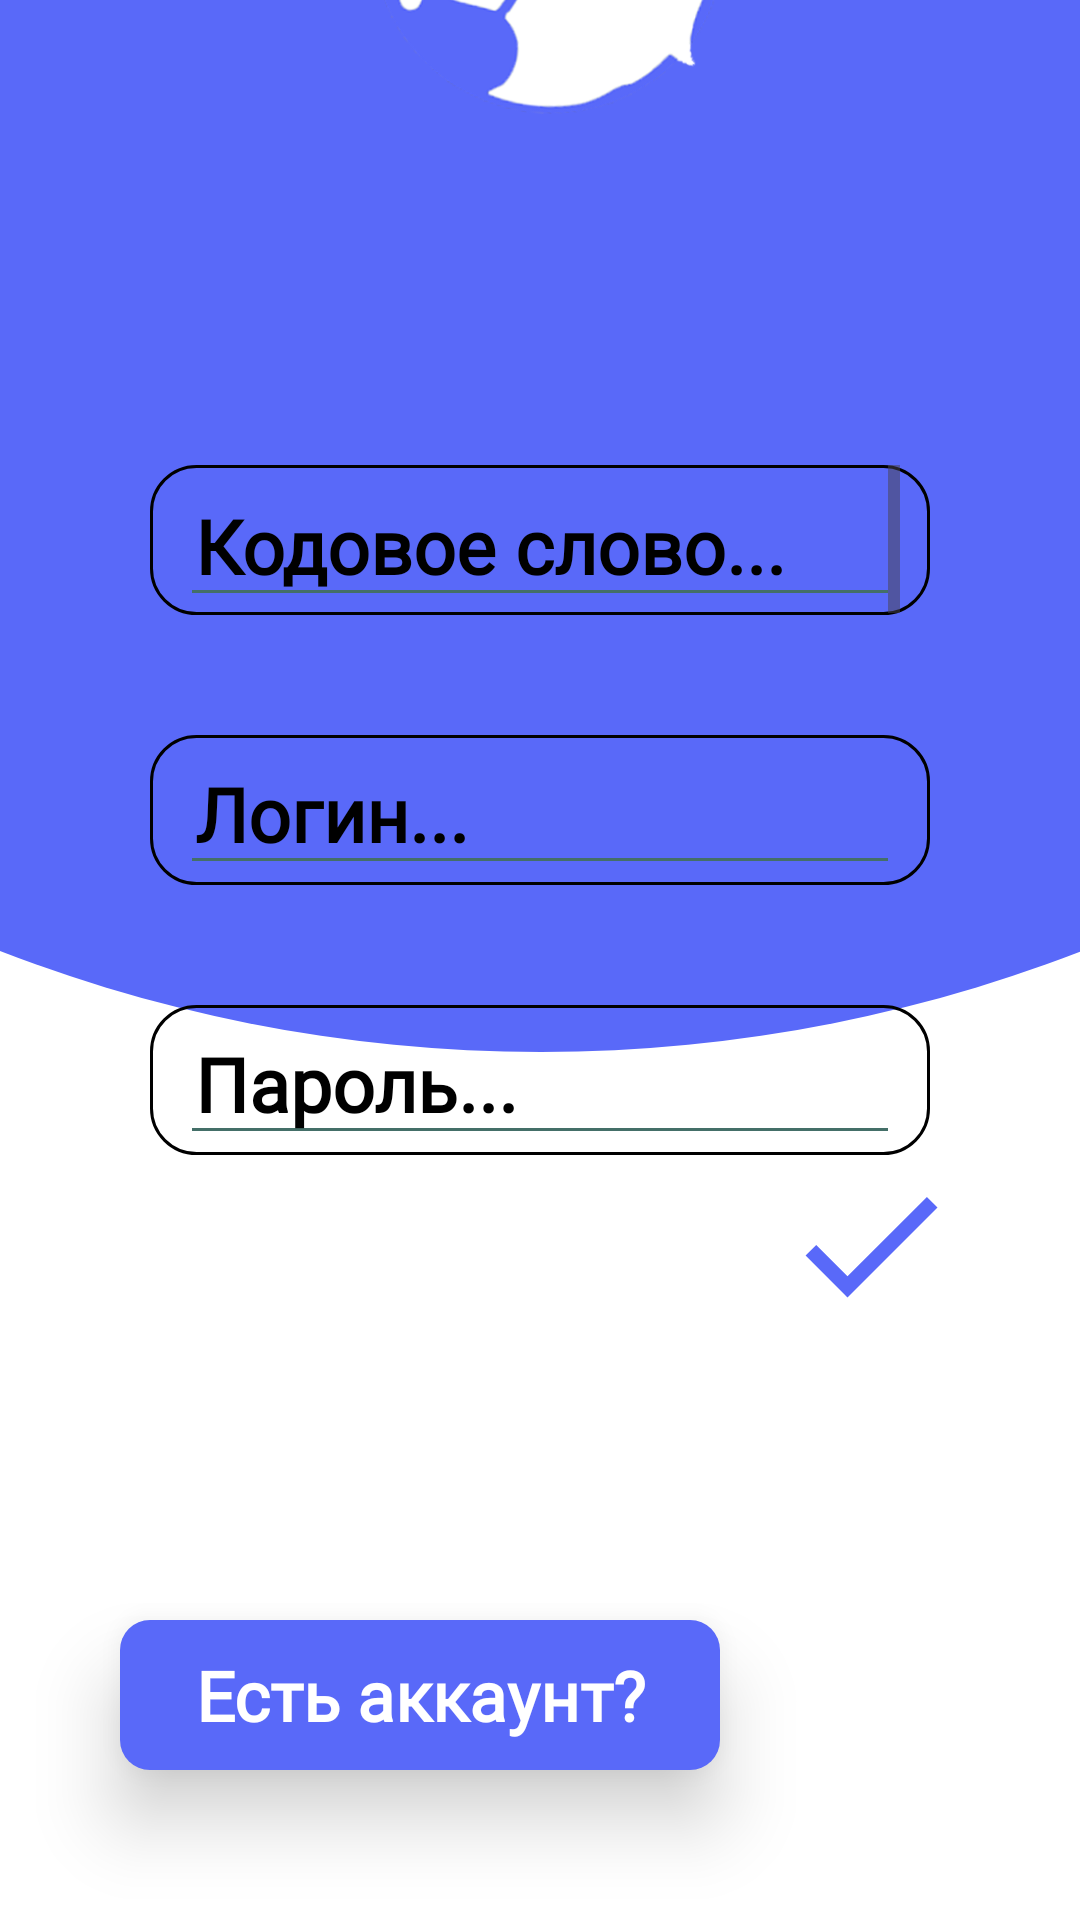

Named icons in this screenshot (1080w x 1920h) and their centers, (x,y):
check: (871,1247)
